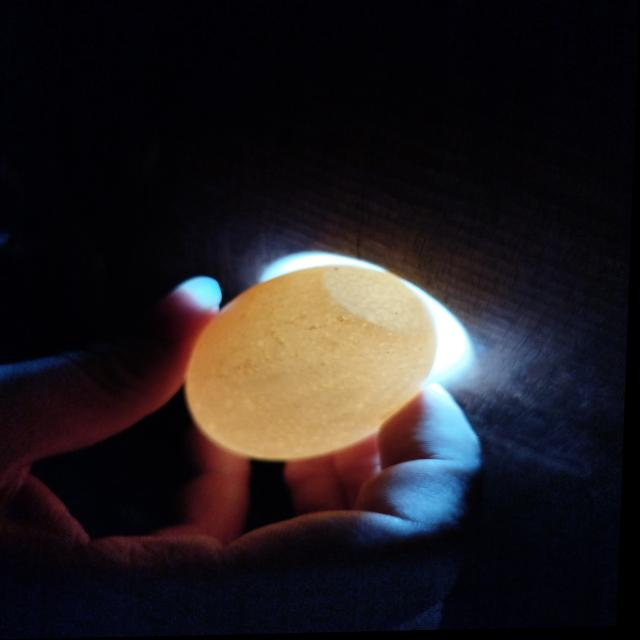Camara de Ar: (324, 268, 438, 337)
